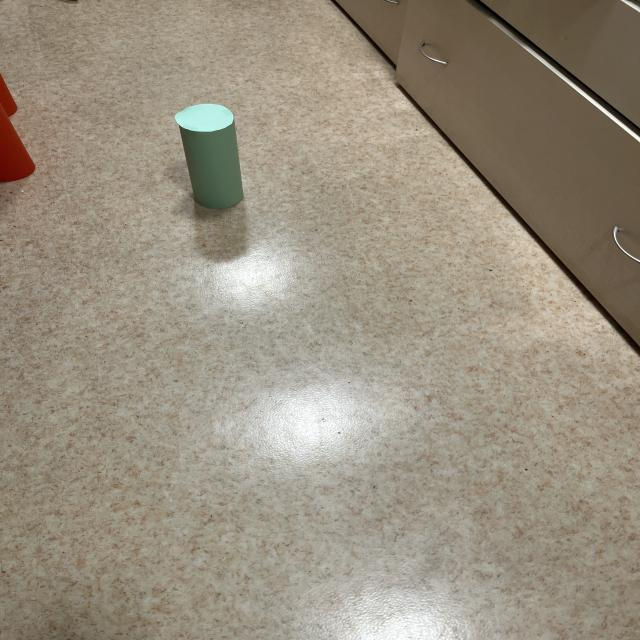meta: (175, 104, 243, 209)
